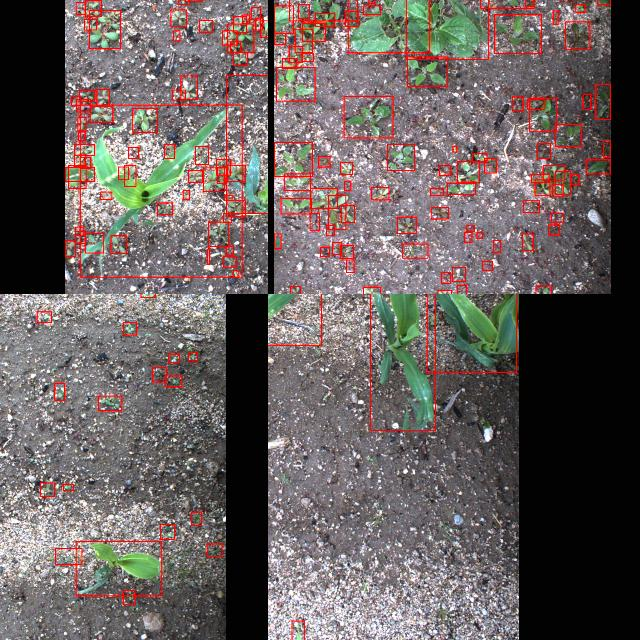crop: (79, 104, 241, 276), (369, 294, 435, 430), (426, 294, 516, 371), (226, 74, 268, 212), (405, 0, 488, 59), (75, 541, 161, 595), (347, 0, 429, 52), (274, 5, 292, 33), (64, 167, 94, 181)
weed: (343, 95, 392, 137), (494, 13, 540, 52), (288, 0, 356, 20), (273, 142, 311, 176), (276, 66, 314, 100), (88, 10, 120, 48), (407, 56, 447, 86), (530, 98, 556, 130), (227, 22, 253, 52), (386, 144, 414, 170), (564, 21, 590, 49), (327, 195, 345, 229), (132, 107, 156, 131), (555, 124, 581, 146), (309, 188, 337, 208), (202, 167, 224, 191), (208, 222, 228, 246), (280, 197, 310, 213), (596, 84, 610, 118), (283, 172, 309, 190), (457, 161, 479, 181), (302, 22, 324, 42), (294, 28, 312, 52), (480, 0, 534, 8), (55, 548, 81, 564), (67, 165, 85, 188), (180, 75, 197, 99), (88, 106, 112, 122), (402, 243, 428, 257), (84, 232, 102, 252), (542, 164, 564, 180), (586, 159, 610, 173), (447, 182, 475, 194), (97, 396, 121, 410), (556, 170, 570, 193), (396, 216, 416, 232), (110, 235, 126, 253), (226, 199, 244, 215), (227, 165, 245, 181), (170, 8, 186, 26), (314, 12, 334, 26), (123, 164, 135, 186), (84, 0, 100, 16), (534, 179, 550, 195), (340, 204, 354, 222), (291, 620, 303, 640), (195, 146, 208, 164), (232, 16, 246, 32), (288, 45, 302, 61), (344, 10, 358, 26), (152, 366, 166, 382), (206, 542, 222, 556), (95, 88, 108, 105), (370, 187, 388, 199), (430, 206, 448, 218), (73, 144, 94, 154), (216, 160, 230, 174), (222, 30, 236, 44), (40, 482, 54, 496), (160, 524, 174, 538), (156, 202, 172, 214), (523, 200, 539, 212), (538, 142, 550, 158), (233, 51, 247, 64), (339, 245, 353, 258), (522, 232, 532, 250), (309, 212, 319, 230), (54, 382, 64, 400), (188, 170, 202, 182), (76, 99, 90, 111), (198, 19, 212, 31), (452, 267, 464, 281), (484, 158, 496, 172), (123, 590, 135, 604), (36, 310, 50, 322), (64, 240, 74, 256), (78, 90, 94, 100), (527, 99, 543, 109), (165, 376, 181, 386), (535, 284, 550, 294), (217, 166, 226, 182), (78, 156, 90, 168), (83, 18, 95, 30), (362, 286, 380, 294), (340, 161, 352, 173), (362, 6, 380, 14), (531, 173, 549, 181), (124, 322, 136, 334), (164, 144, 174, 158), (472, 152, 486, 162), (512, 96, 522, 110), (282, 58, 296, 68), (298, 4, 308, 18), (191, 511, 201, 525), (260, 19, 268, 36), (222, 256, 235, 266), (118, 167, 128, 180), (74, 231, 84, 243), (128, 146, 138, 158), (74, 154, 84, 166), (172, 89, 184, 99), (74, 2, 84, 14), (250, 7, 260, 19), (548, 224, 560, 234), (551, 212, 563, 222), (274, 32, 284, 44), (552, 184, 562, 196), (77, 116, 85, 130), (345, 258, 353, 272), (583, 94, 591, 108), (438, 165, 449, 175), (317, 156, 328, 166), (332, 242, 341, 254), (168, 353, 180, 362), (70, 95, 80, 105), (230, 42, 240, 52), (440, 272, 450, 282), (482, 260, 492, 270), (604, 140, 610, 156), (325, 224, 333, 236), (430, 187, 442, 195), (492, 240, 500, 252), (301, 53, 313, 61), (456, 284, 465, 294), (255, 17, 262, 29), (274, 234, 280, 248), (552, 10, 558, 24), (74, 226, 84, 234), (223, 212, 231, 222), (172, 30, 180, 40), (289, 286, 299, 294), (320, 246, 328, 256), (464, 232, 472, 242), (571, 174, 579, 184), (188, 352, 198, 360), (437, 289, 451, 294), (225, 246, 233, 254), (576, 4, 584, 12), (100, 192, 110, 198), (242, 14, 248, 24), (344, 180, 350, 190), (63, 484, 73, 490), (597, 0, 610, 4), (224, 194, 232, 200), (182, 190, 188, 198), (78, 132, 84, 140), (466, 225, 474, 231), (140, 294, 155, 297), (525, 0, 533, 5), (232, 270, 238, 276), (476, 231, 482, 237), (177, 0, 188, 3), (207, 248, 209, 264), (452, 145, 456, 151)
